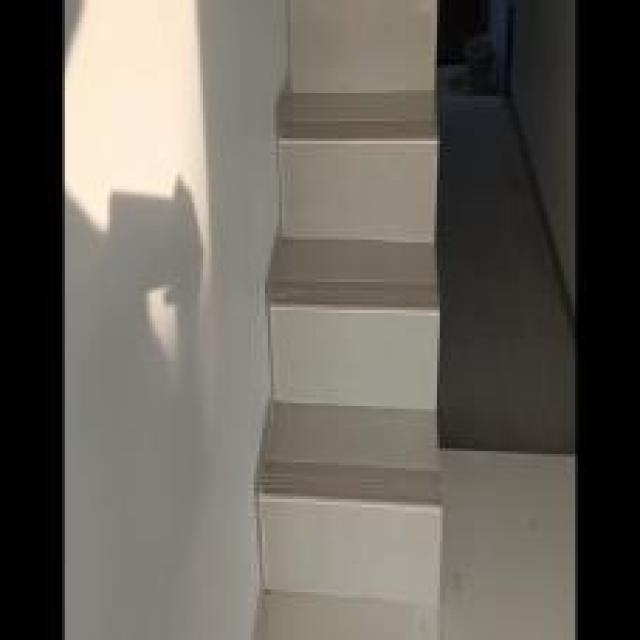upstair: (260, 77, 455, 621)
